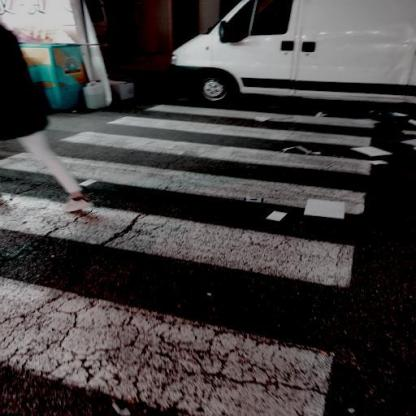crosswalk: (1, 128, 388, 222)
